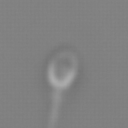normal: (41, 90, 66, 126)
